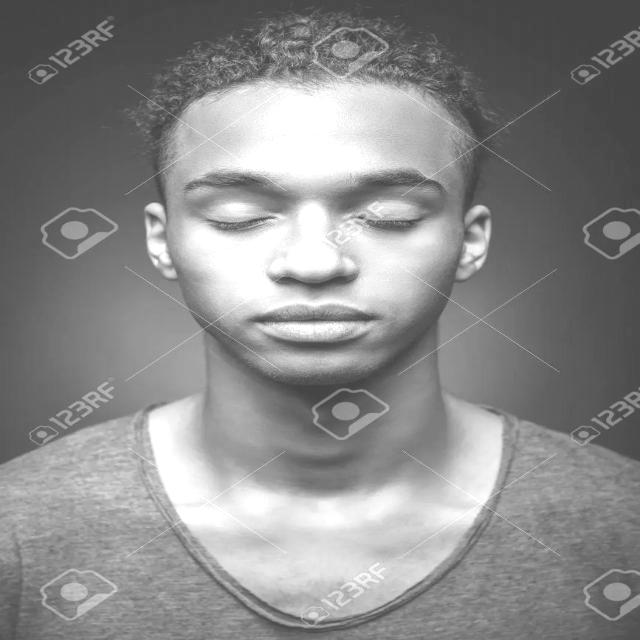real: (145, 72, 493, 380), (167, 162, 477, 232)
